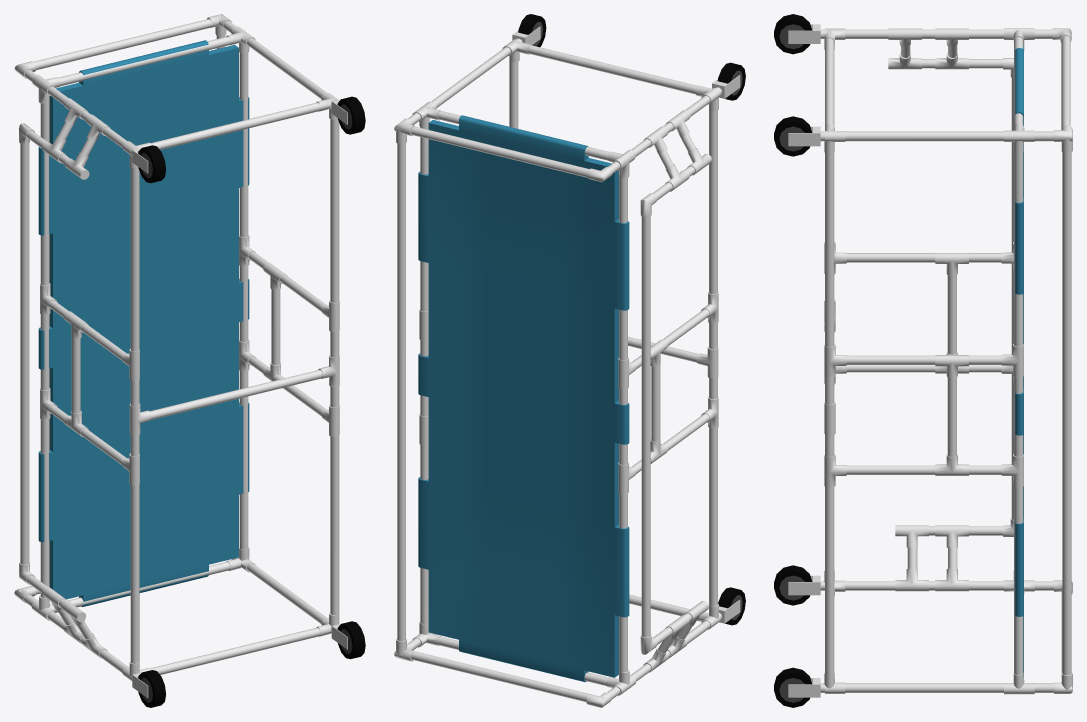
The picture shows the model from 3 angles, left to right: view 1: azimuth 30°, elevation 25°; view 2: azimuth 150°, elevation 25°; view 3: azimuth 270°, elevation 25°; orthographic projection. The views are drawn at different scales.
Visible parts, largest first — view 1: Circle; view 2: Circle; view 3: Circle.
Part boxes in pixels (bbox=[...]): Circle: bbox=[14, 14, 365, 707]; Circle: bbox=[394, 14, 745, 707]; Circle: bbox=[774, 14, 1072, 707].
Bounding box in the file's own units: 89.54 × 206 × 95.05.
